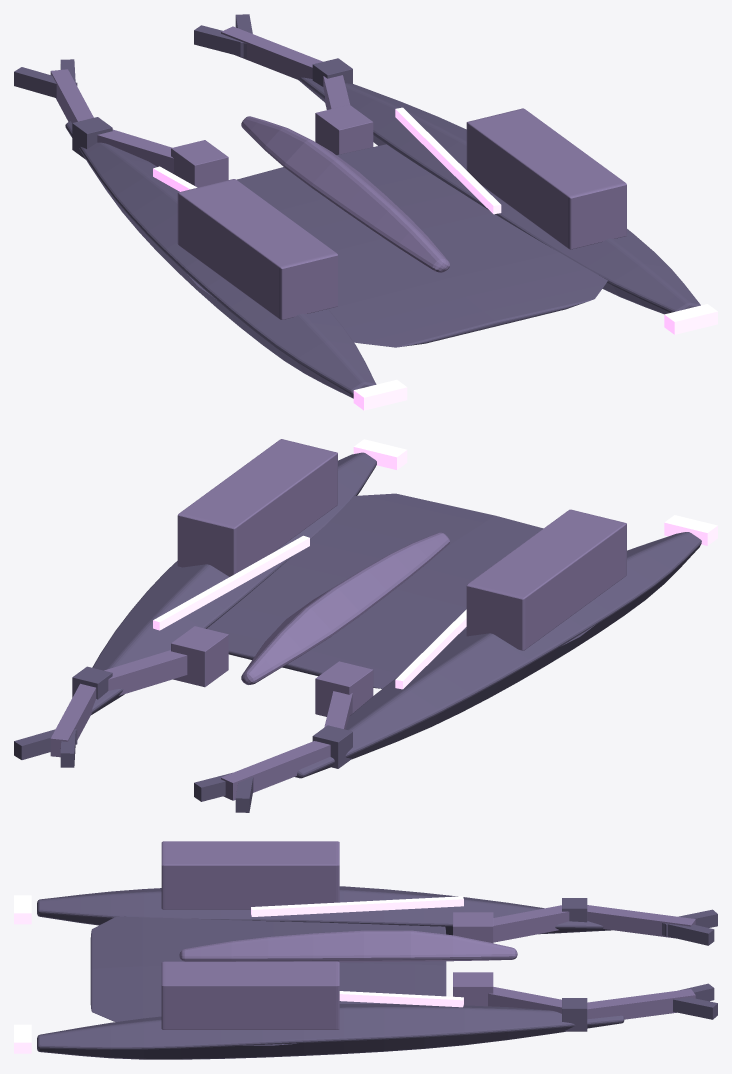
The model's file is illumaria-harvester.glb.
3 views of the same model, one above another, from view 1: azimuth 30°, elevation 25°; view 2: azimuth 150°, elevation 25°; view 3: azimuth 270°, elevation 25° (orthographic). The views are drawn at different scales.
Parts seen in each view (by area): view 1: hull, cat, Cube.012, Cube.013, cat.001, hull.001, Cube.006, Cube.009, Cube, Cube.015, Cube.001, Cube.003 (+7 smaller); view 2: hull, cat, Cube.012, Cube.013, cat.001, hull.001, Cube.006, Cube.003, Cube.015, Cube.007, Cube, Cube.009 (+8 smaller); view 3: cat.001, hull, Cube.013, Cube.012, cat, hull.001, Cube.014, Cube.009, Cube.003, Cube.001, Cube.015, Cube.006 (+9 smaller).
Boxes of the visible parts, x1=… form: hull: x1=187, y1=144, x2=607, y2=347; cat: x1=65, y1=121, x2=376, y2=398; Cube.012: x1=177, y1=179, x2=337, y2=319; Cube.013: x1=466, y1=108, x2=626, y2=249; cat.001: x1=298, y1=77, x2=700, y2=314; hull.001: x1=241, y1=116, x2=449, y2=272; Cube.006: x1=315, y1=104, x2=373, y2=154; Cube.009: x1=221, y1=26, x2=322, y2=80; Cube: x1=171, y1=140, x2=228, y2=187; Cube.015: x1=395, y1=107, x2=501, y2=214; Cube.001: x1=97, y1=129, x2=173, y2=173; Cube.003: x1=50, y1=69, x2=93, y2=123; hull: x1=207, y1=493, x2=595, y2=688; cat: x1=294, y1=532, x2=701, y2=778; Cube.012: x1=466, y1=509, x2=626, y2=650; Cube.013: x1=177, y1=439, x2=337, y2=576; cat.001: x1=91, y1=452, x2=376, y2=714; hull.001: x1=241, y1=532, x2=449, y2=684; Cube.006: x1=171, y1=626, x2=228, y2=687; Cube.003: x1=221, y1=741, x2=330, y2=800; Cube.015: x1=153, y1=535, x2=309, y2=630; Cube.007: x1=104, y1=650, x2=187, y2=695; Cube: x1=315, y1=661, x2=373, y2=716; Cube.009: x1=50, y1=683, x2=96, y2=757; cat.001: x1=37, y1=1004, x2=624, y2=1059; hull: x1=90, y1=916, x2=446, y2=1045; Cube.013: x1=161, y1=961, x2=339, y2=1029; Cube.012: x1=161, y1=841, x2=339, y2=909; cat: x1=37, y1=886, x2=611, y2=935; hull.001: x1=179, y1=930, x2=517, y2=962; Cube.014: x1=251, y1=896, x2=463, y2=916; Cube.009: x1=587, y1=989, x2=695, y2=1019; Cube.003: x1=587, y1=905, x2=695, y2=938; Cube.001: x1=493, y1=905, x2=569, y2=942; Cube.015: x1=339, y1=991, x2=463, y2=1007; Cube.006: x1=453, y1=972, x2=493, y2=1006.
Bounding box in the file's own units: 2.12 × 0.4486 × 3.96.
